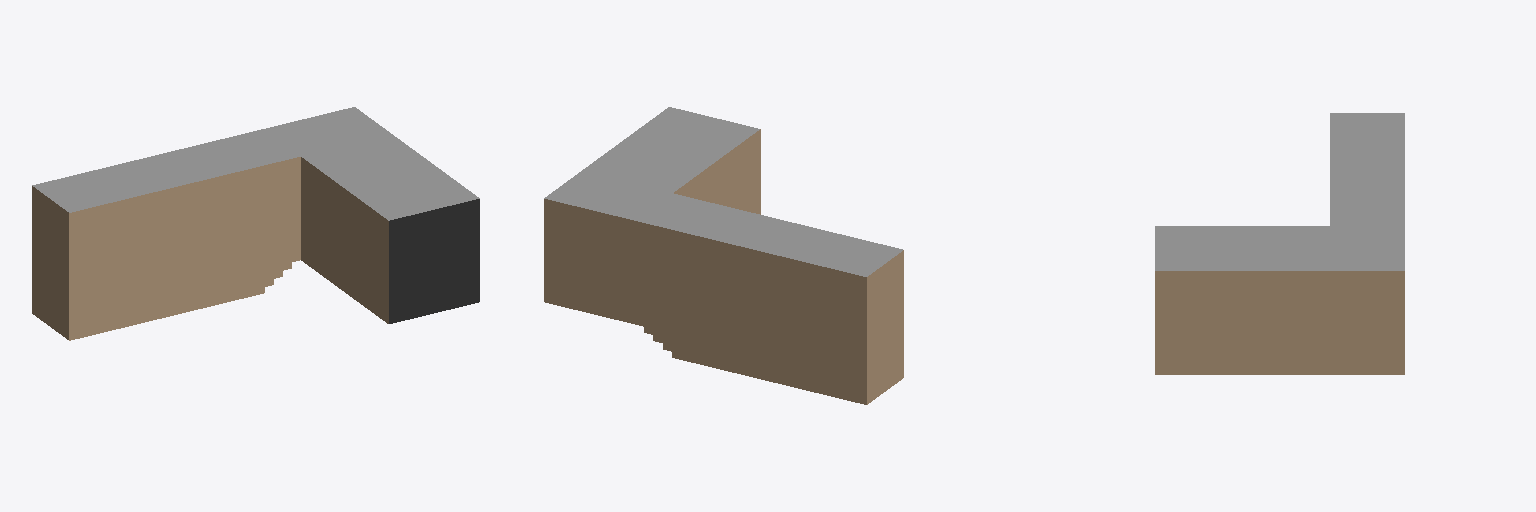
The model's file is OfficeInterior.obj.
The picture shows the model from 3 angles: view 1: azimuth 30°, elevation 25°; view 2: azimuth 150°, elevation 25°; view 3: azimuth 270°, elevation 25°; orthographic projection.
Visible parts, largest first — view 1: OfficeHall1Walls_Plane.001, OfficeHall1Ceiling_Plane.005, Plane.002_Plane.004; view 2: OfficeHall1Walls_Plane.001, OfficeHall1Ceiling_Plane.005; view 3: OfficeHall1Walls_Plane.001, OfficeHall1Ceiling_Plane.005.
Boxes of the visible parts, box(x1,y1,x2,y2) form: OfficeHall1Walls_Plane.001: box(32, 157, 388, 340); OfficeHall1Ceiling_Plane.005: box(32, 107, 479, 220); Plane.002_Plane.004: box(389, 199, 479, 323); OfficeHall1Walls_Plane.001: box(544, 129, 903, 404); OfficeHall1Ceiling_Plane.005: box(544, 107, 902, 276); OfficeHall1Walls_Plane.001: box(1155, 271, 1404, 374); OfficeHall1Ceiling_Plane.005: box(1155, 113, 1404, 270).
Bounding box in the file's own units: 9.93 × 3.76 × 6.68.